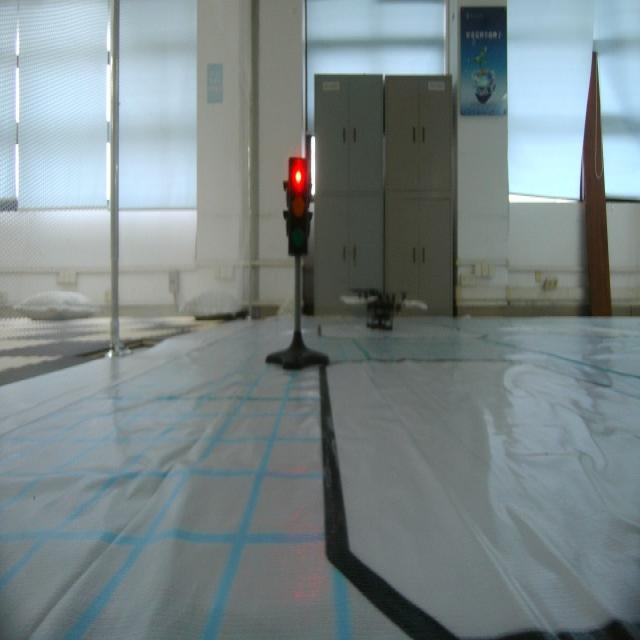red: (285, 154, 313, 266)
